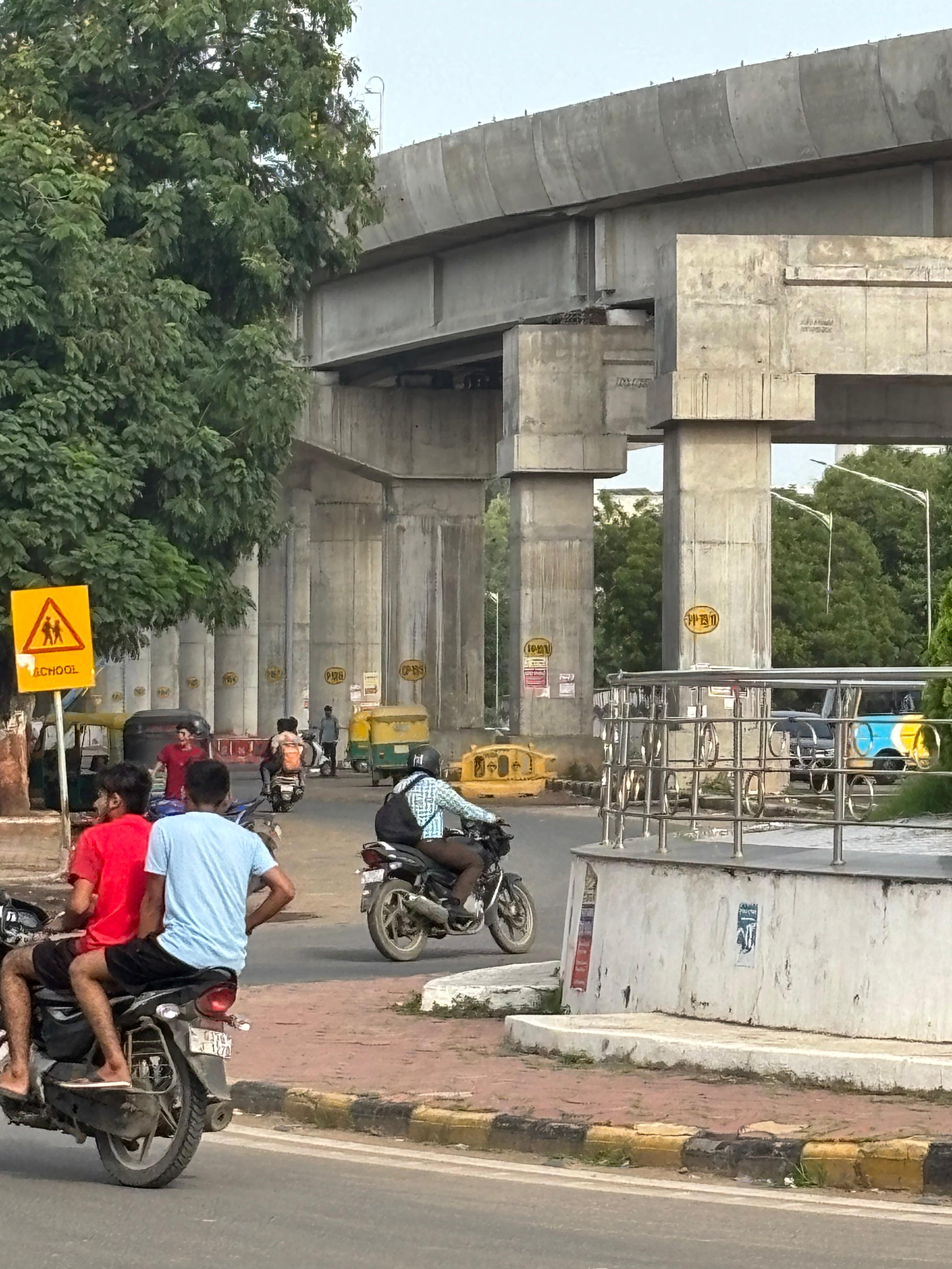BikeWithRider: (0, 747, 298, 1189), (353, 743, 541, 967), (259, 708, 313, 817)
Helmet: (402, 741, 445, 785)
NoHelmet: (85, 762, 153, 821), (179, 747, 231, 821)
